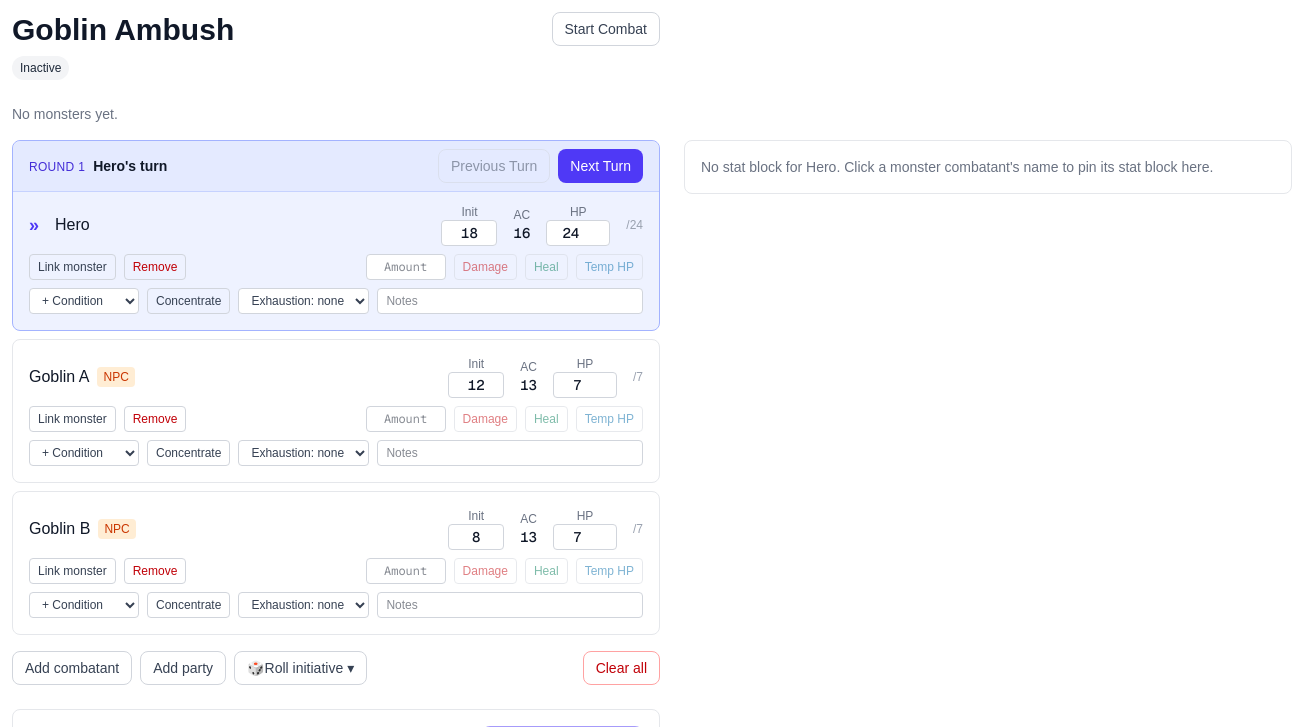
Test case: InitiativeTrackerPage › reverts to the server value when an empty HP edit is committed
The image size is (1292, 727).
Expected: the button "Next Turn" is shown, [558,149,643,183]
Clear the number field named "HP for Goblin A" at (585, 385), box [553,372,617,398]
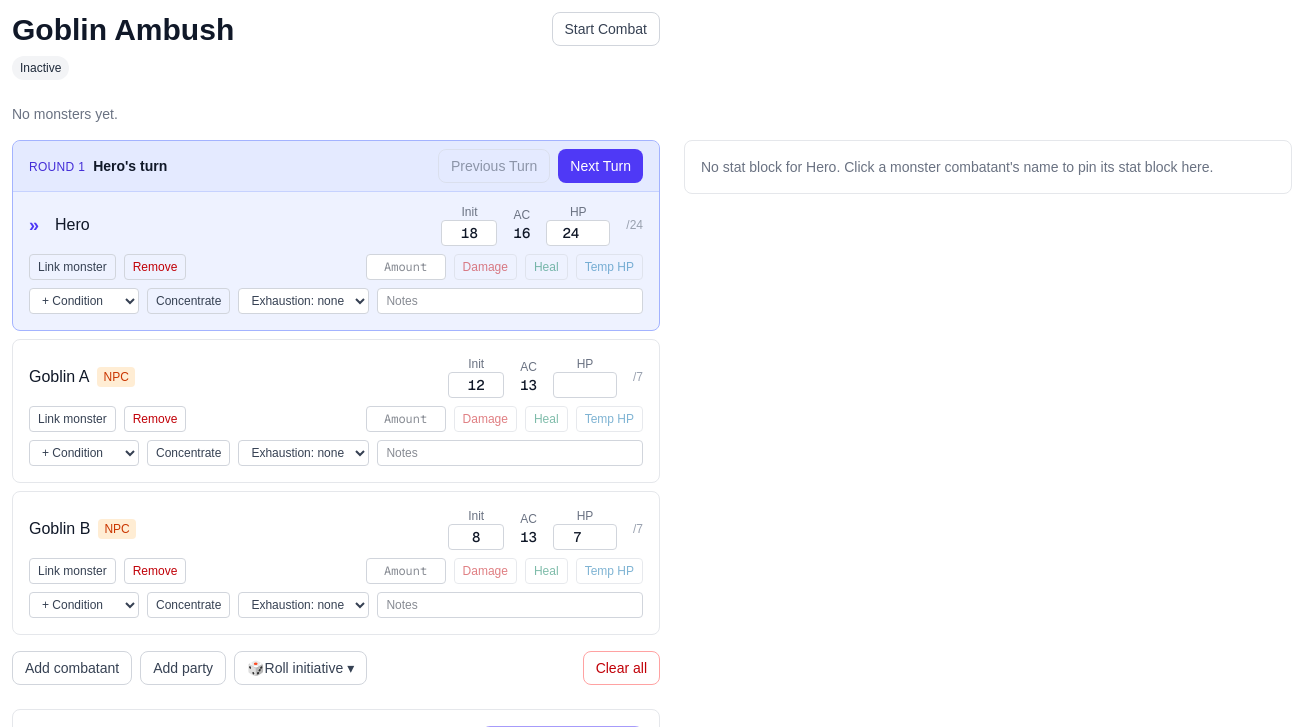
Leave the number field named "HP for Goblin A", box [553,372,617,398]
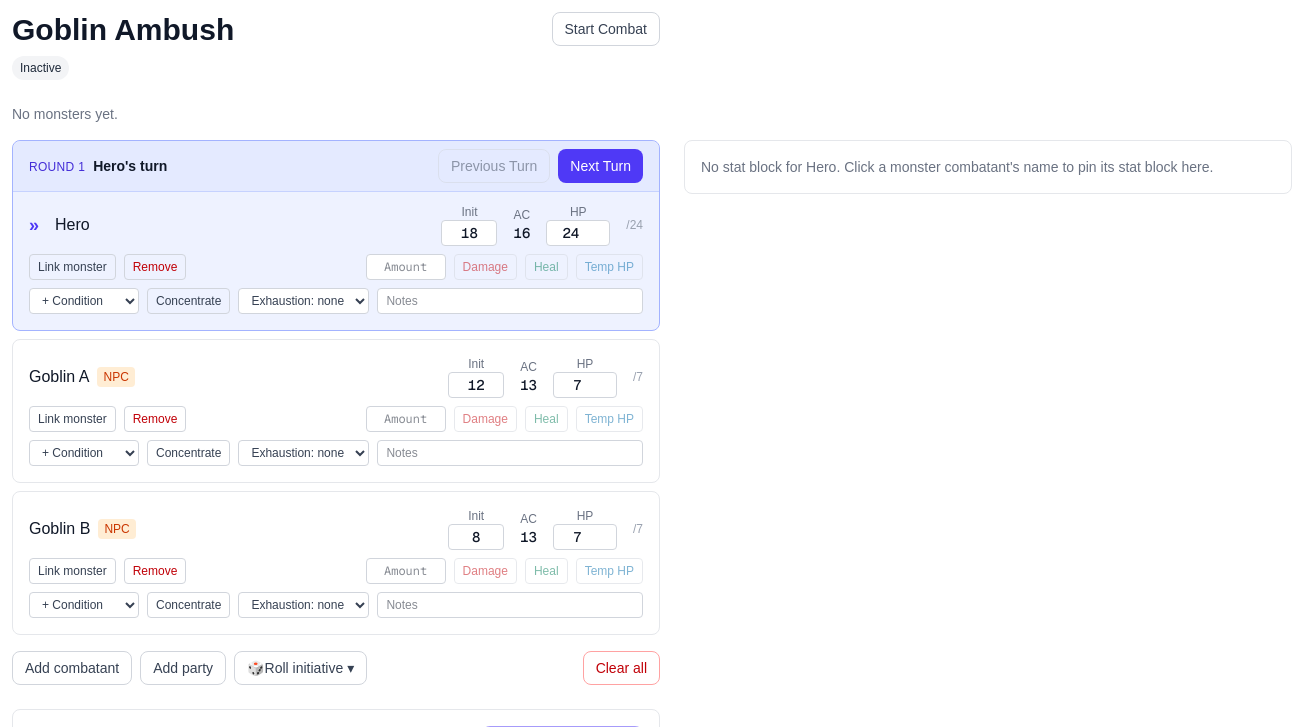
Expected: the number field named "HP for Goblin A" holds "7", [553,372,617,398]
